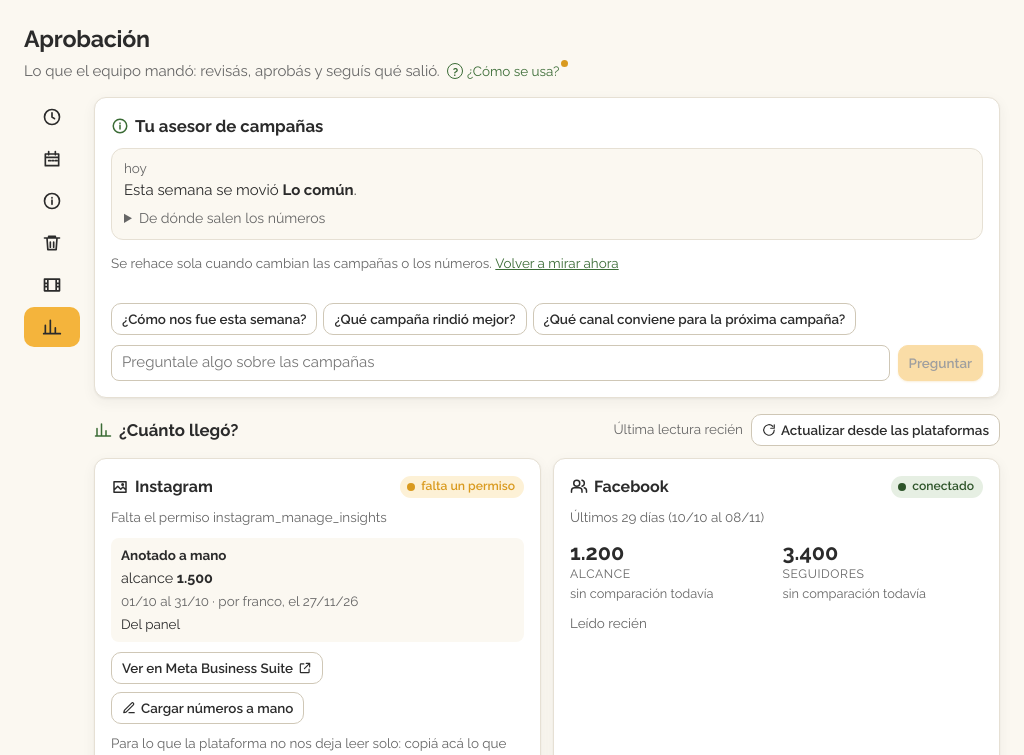
Scenario: Métricas › el asesor muestra la apertura al entrar y responde preguntas con el body esperado
The width and height of the screenshot is (1024, 755).
Check: the text "Lo común" is shown, box top-left (282, 181), bottom-right (354, 199)
Check: the button "¿Qué campaña rindió mejor?" is shown, box top-left (324, 303), bottom-right (527, 335)
Type "¿Qué canal conviene?" into the field named "Tu pregunta" at (500, 363), box top-left (111, 345), bottom-right (890, 381)
Then press Enter
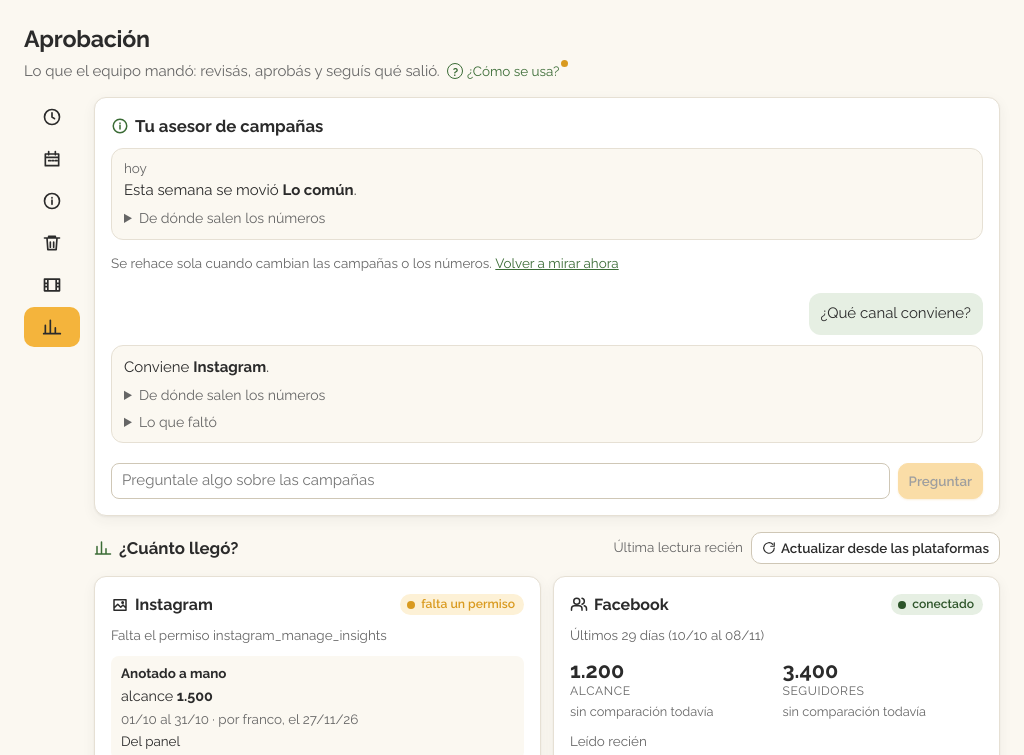
Check: the text "Instagram" is shown, box top-left (193, 358), bottom-right (266, 376)
Check: the button "¿Qué campaña rindió mejor?" is gone
